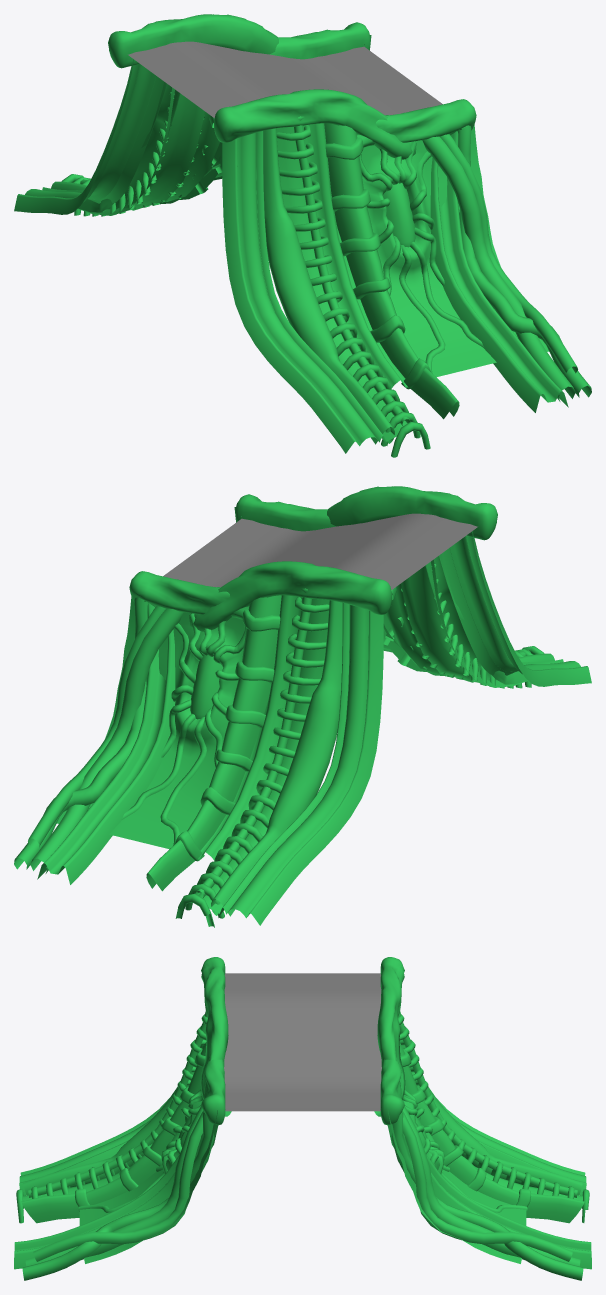
The model's file is Track_alien_06.fbx.
3 views of the same model, one above another, from view 1: azimuth 30°, elevation 25°; view 2: azimuth 150°, elevation 25°; view 3: azimuth 270°, elevation 25° (orthographic). The views are drawn at different scales.
Parts seen in each view (by area): view 1: Side_Rock_006, Road_006; view 2: Side_Rock_006, Road_006; view 3: Side_Rock_006, Road_006.
Boxes of the visible parts, x1,y1,x2,y2 form: Side_Rock_006: (14,14,591,457); Road_006: (128,41,442,117); Side_Rock_006: (14,486,591,927); Road_006: (163,513,477,589); Side_Rock_006: (14,957,591,1280); Road_006: (224,973,381,1111).
Size of what is drawn, in the model's own units: 3362 by 7599 by 3340.
